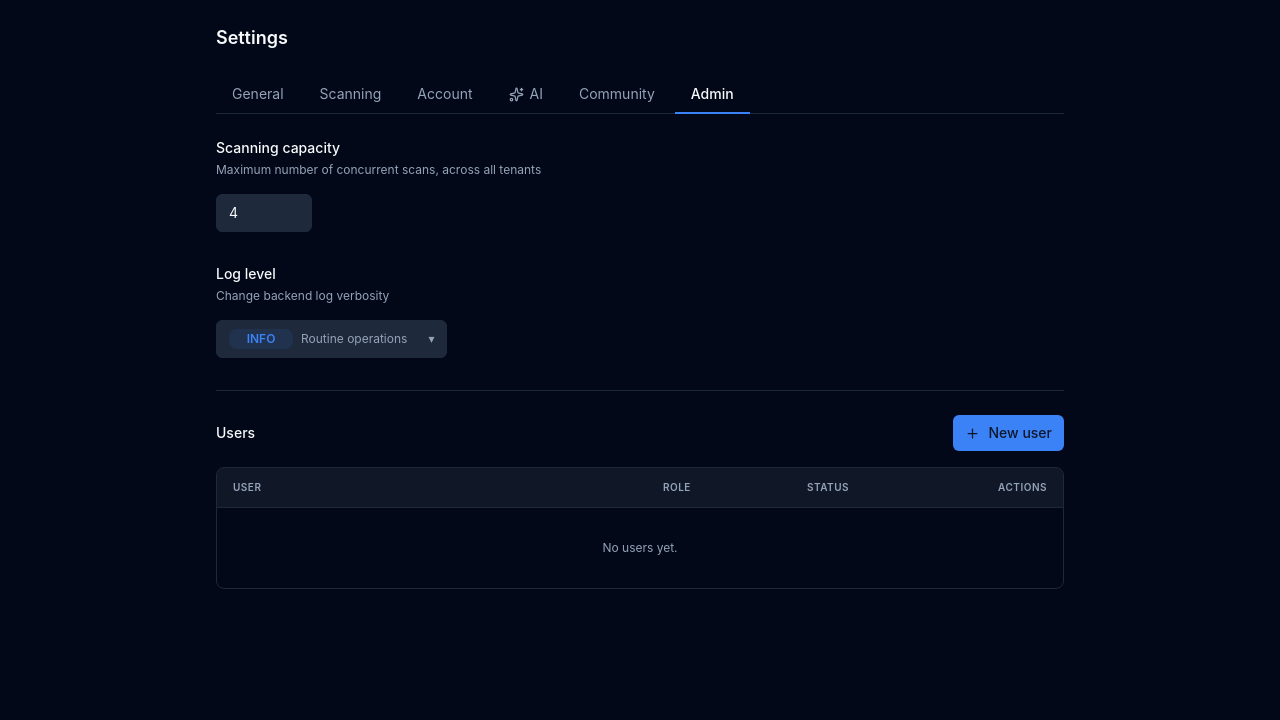
it: AccountSettings › validates new user email locally before creating the user
Click the button "New user" at [1009, 433], box top-left (954, 415), bottom-right (1064, 451)
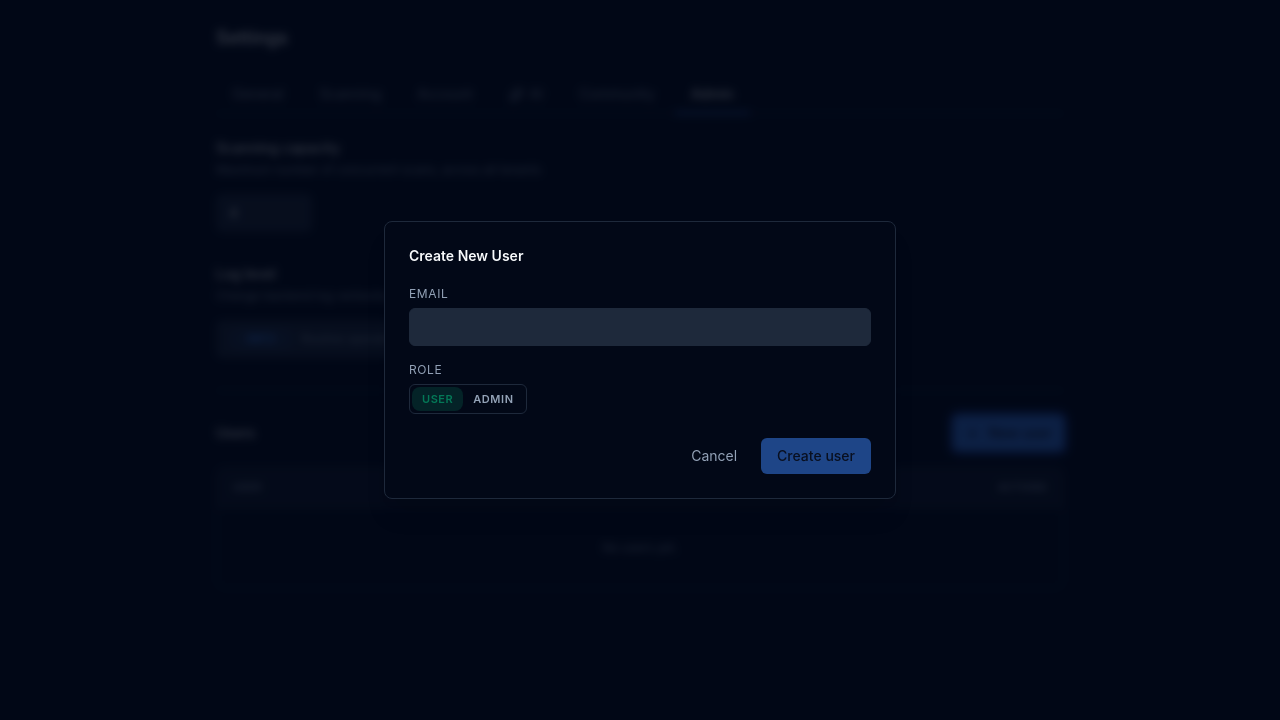
Type "test@example" into the field labelled "Email" at [640, 327], box top-left (409, 308), bottom-right (871, 346)
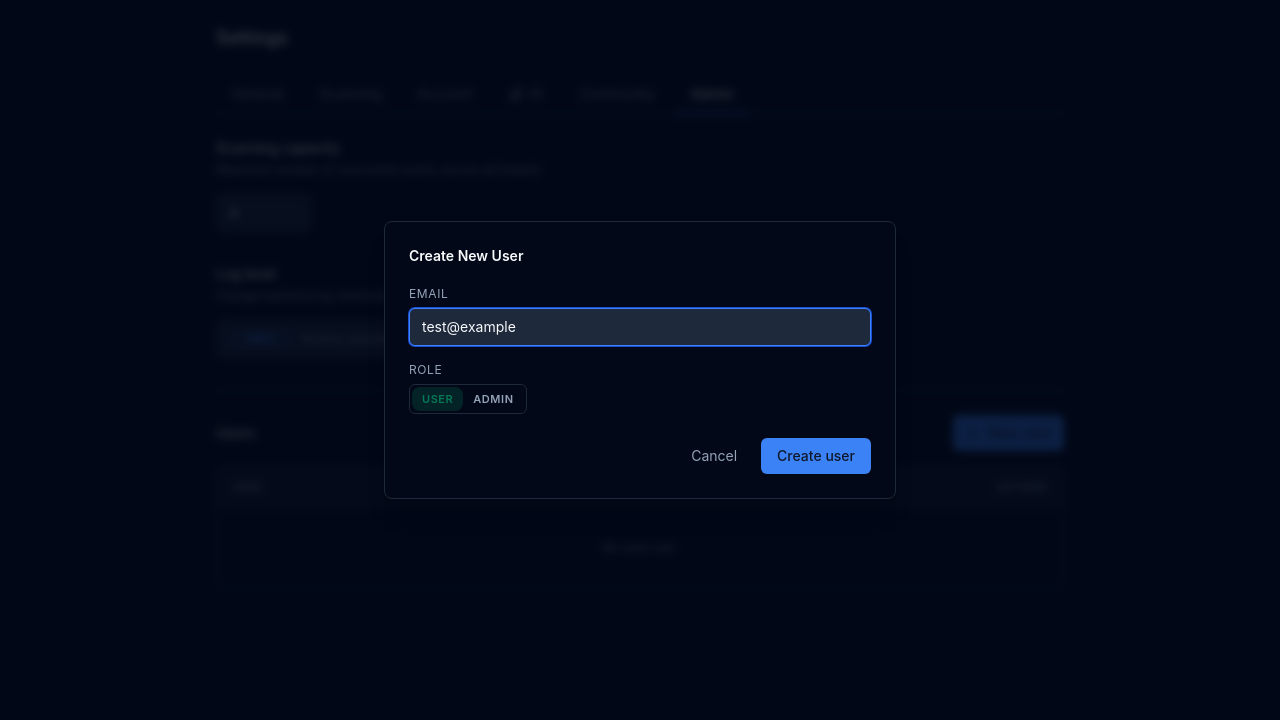
Click the button "Create user" at [816, 456], box top-left (761, 438), bottom-right (871, 474)
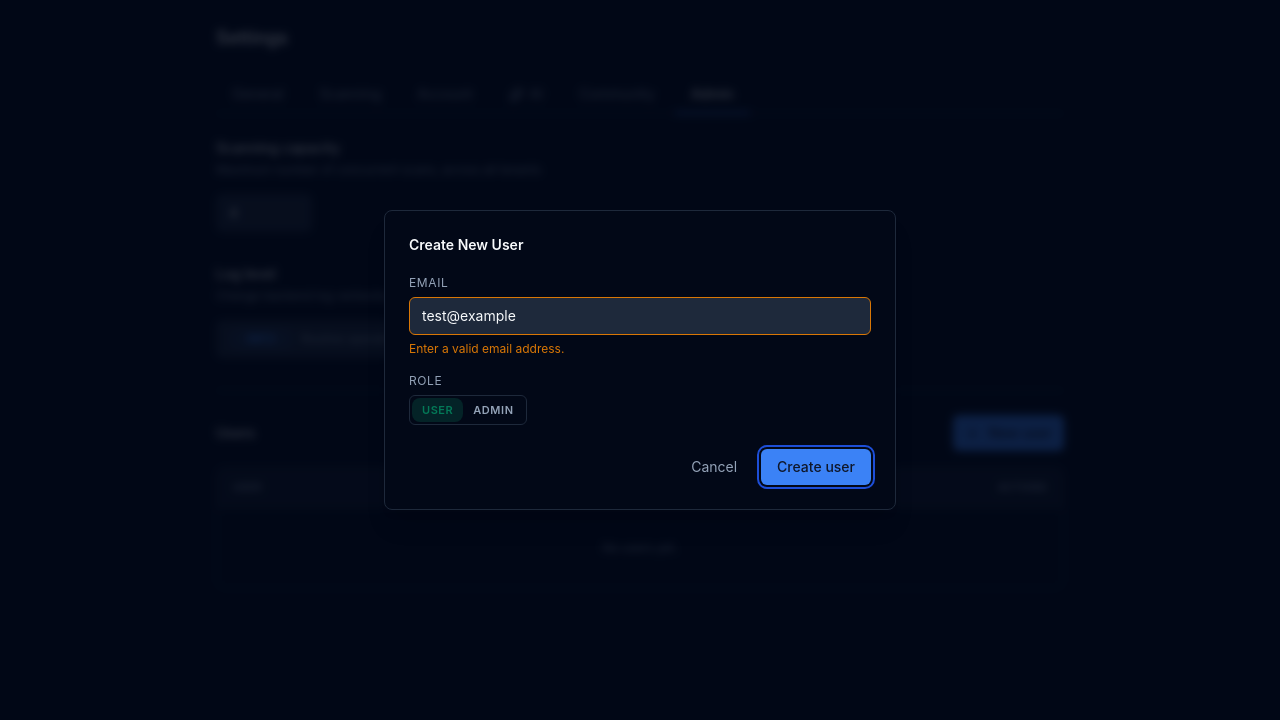
expect the text "Enter a valid email address." is shown: met, box top-left (409, 341), bottom-right (564, 356)
